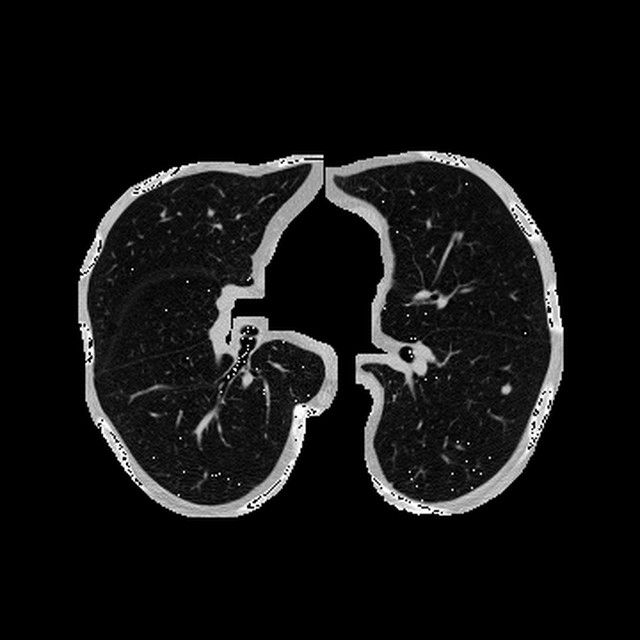PN: (501, 384, 512, 395)
